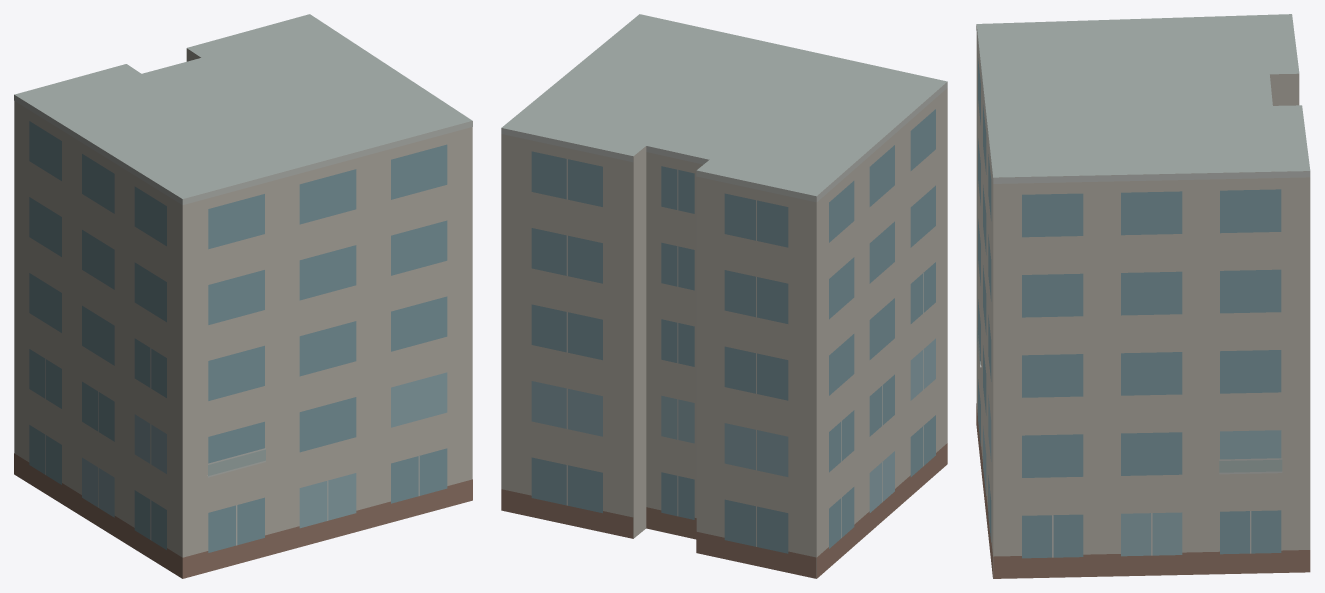
Rendered from survey-upis-32945946.glb.
3 views of the same model, side by side, from view 1: azimuth 30°, elevation 25°; view 2: azimuth 150°, elevation 25°; view 3: azimuth 270°, elevation 25° (orthographic). The views are drawn at different scales.
Parts seen in each view (by area): view 1: survey-upis-32945946.tmp; view 2: survey-upis-32945946.tmp; view 3: survey-upis-32945946.tmp.
Boxes of the visible parts, box(x1,y1,x2,y2) form: survey-upis-32945946.tmp: box(14, 14, 472, 578); survey-upis-32945946.tmp: box(501, 14, 947, 578); survey-upis-32945946.tmp: box(976, 14, 1310, 578).
Bounding box in the file's own units: 13.34 × 15.25 × 11.51.
